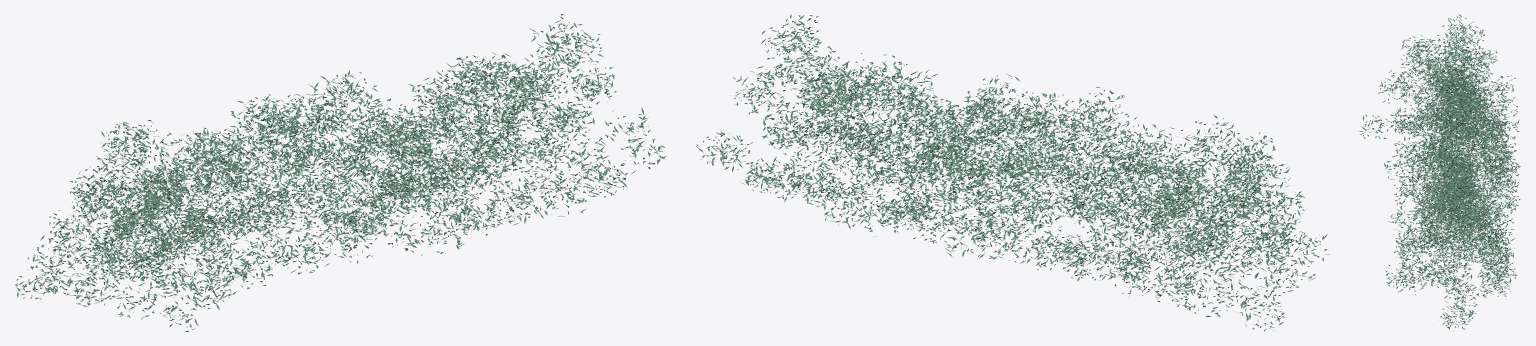
File: xiyuan-vegetation-28-medium.glb
3 views of the same model, side by side, from view 1: azimuth 30°, elevation 25°; view 2: azimuth 150°, elevation 25°; view 3: azimuth 270°, elevation 25° (orthographic). The views are drawn at different scales.
Visible parts, largest first — view 1: vegetation cedar leaves.003; view 2: vegetation cedar leaves.003; view 3: vegetation cedar leaves.003.
Boxes of the visible parts, <box> form: vegetation cedar leaves.003: <box>15,14,665,331</box>; vegetation cedar leaves.003: <box>696,14,1329,330</box>; vegetation cedar leaves.003: <box>1359,14,1520,331</box>.
Size of the model in its own units: 38.77 by 11.13 by 11.77.
